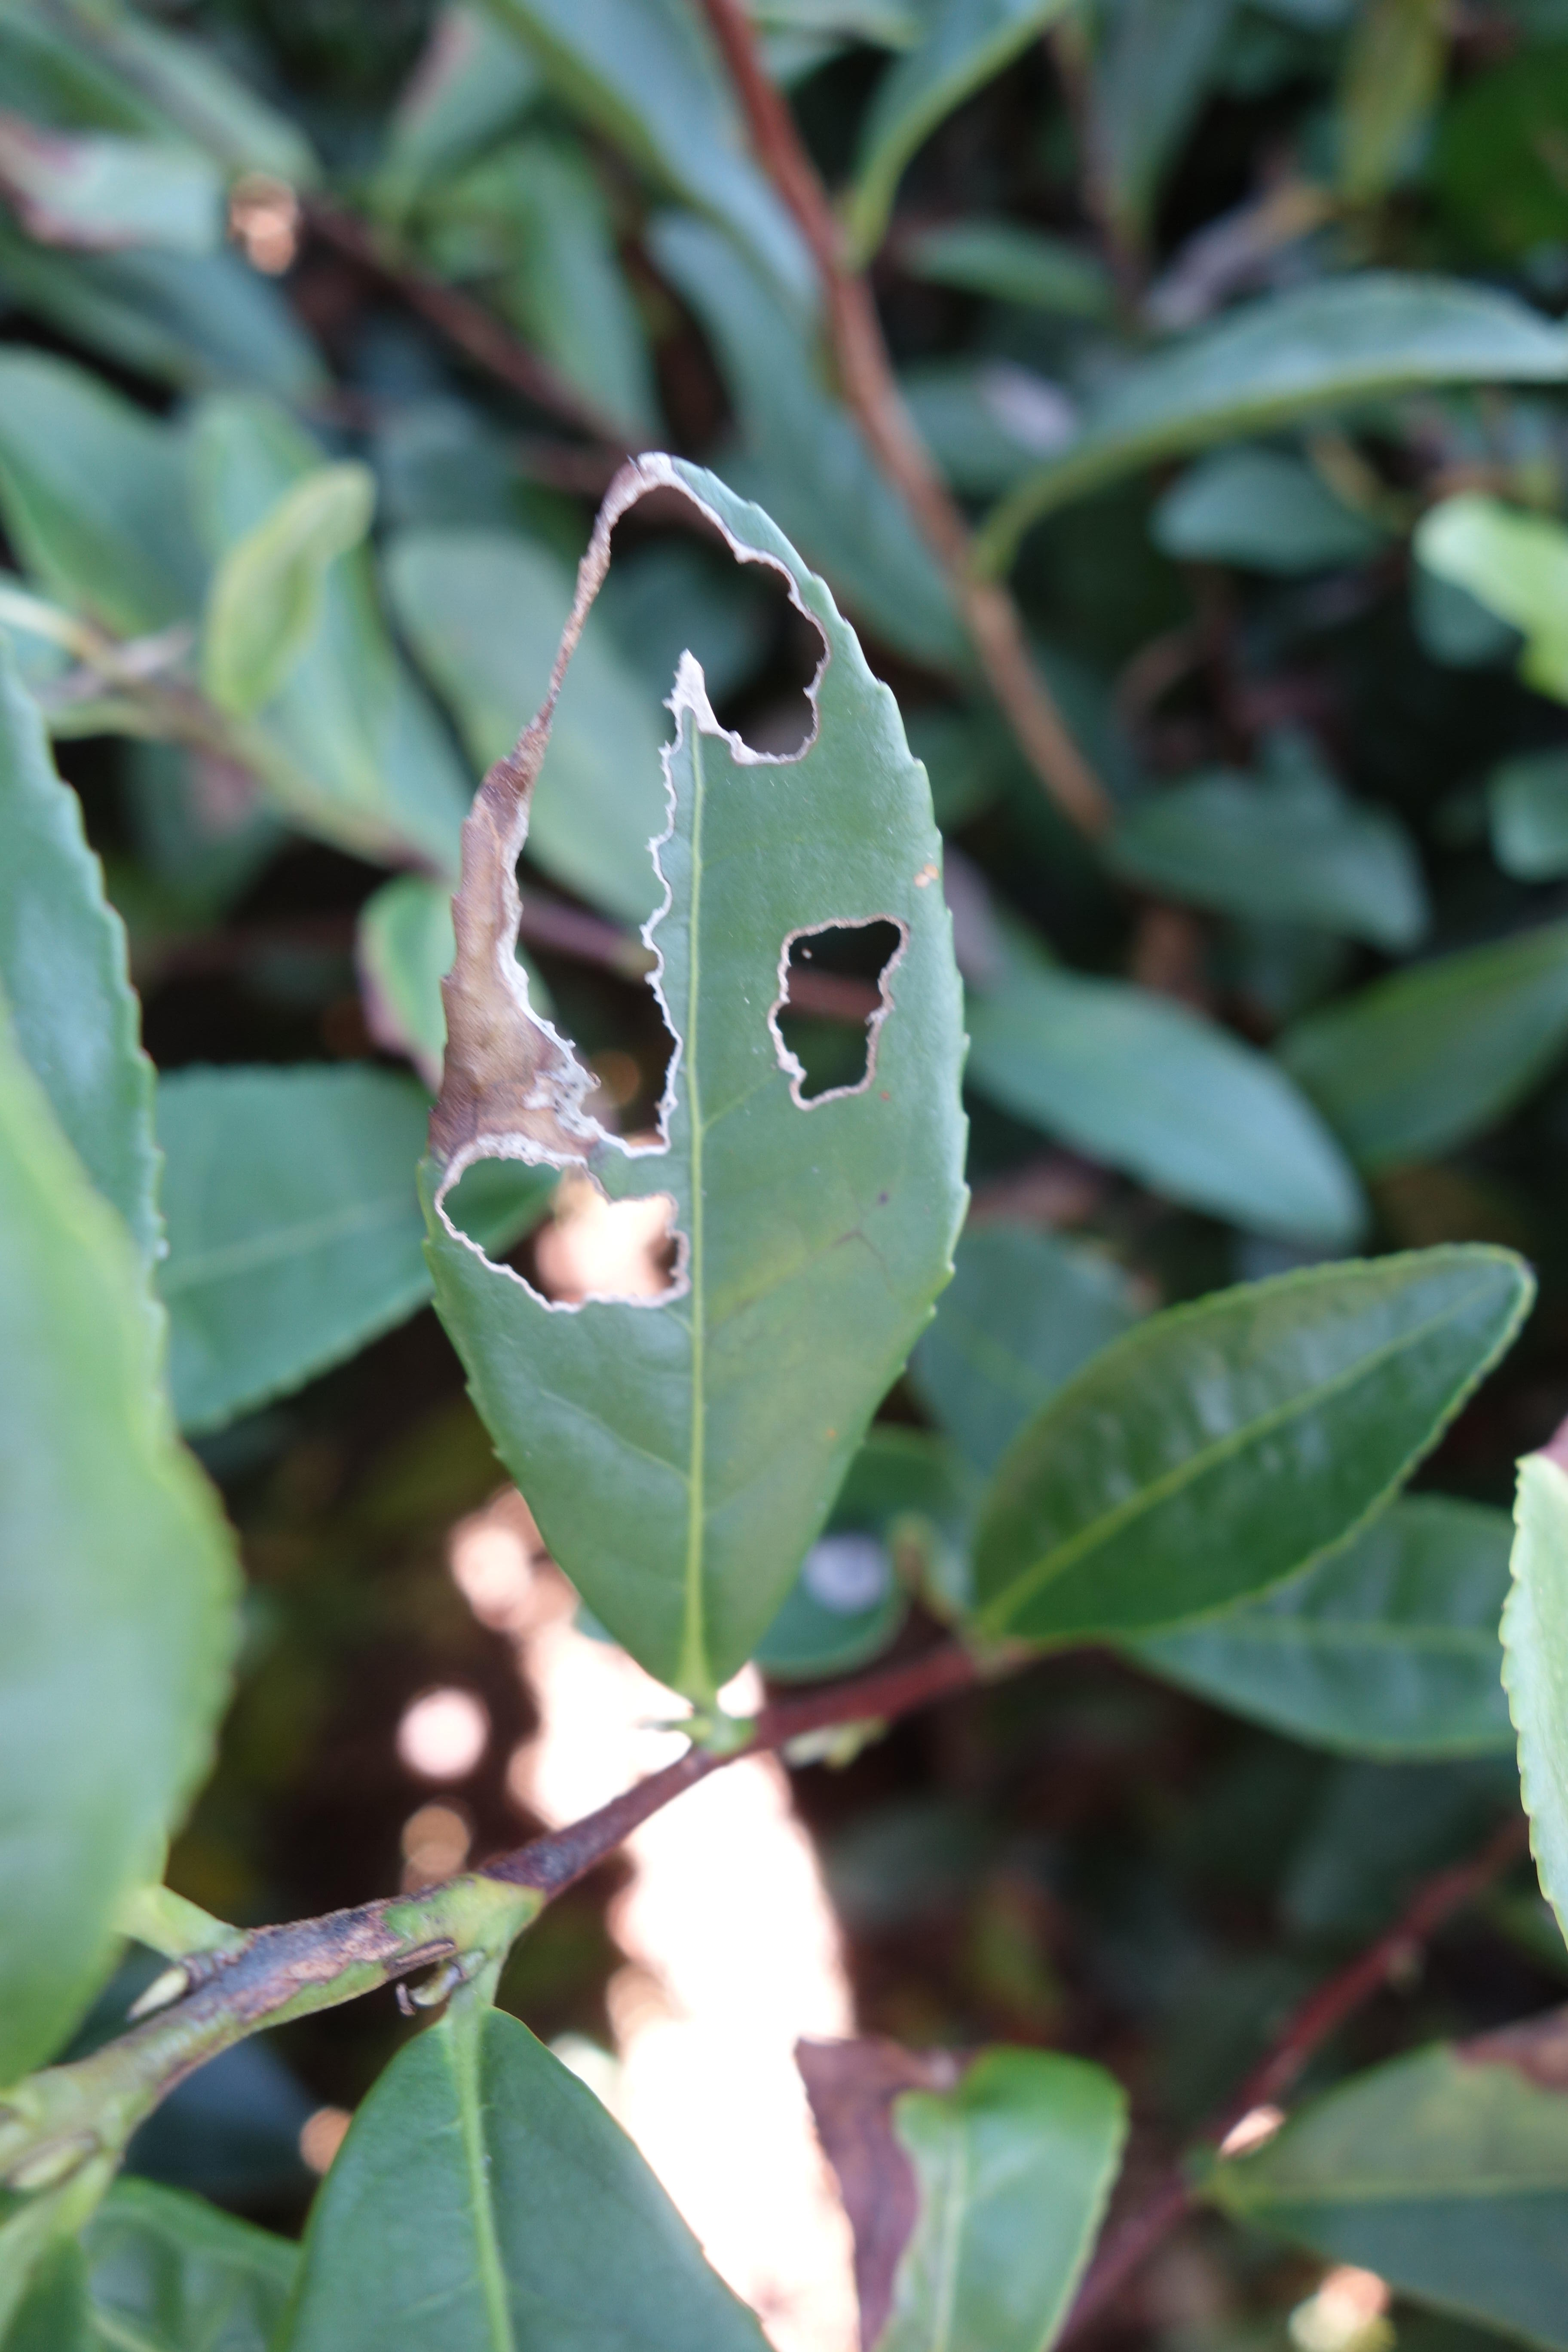chihuo_high: (413, 448, 976, 1694)
healthy: (976, 1242, 1540, 1652)
tanju_high: (1211, 2018, 1568, 2329), (794, 2030, 1130, 2348)
